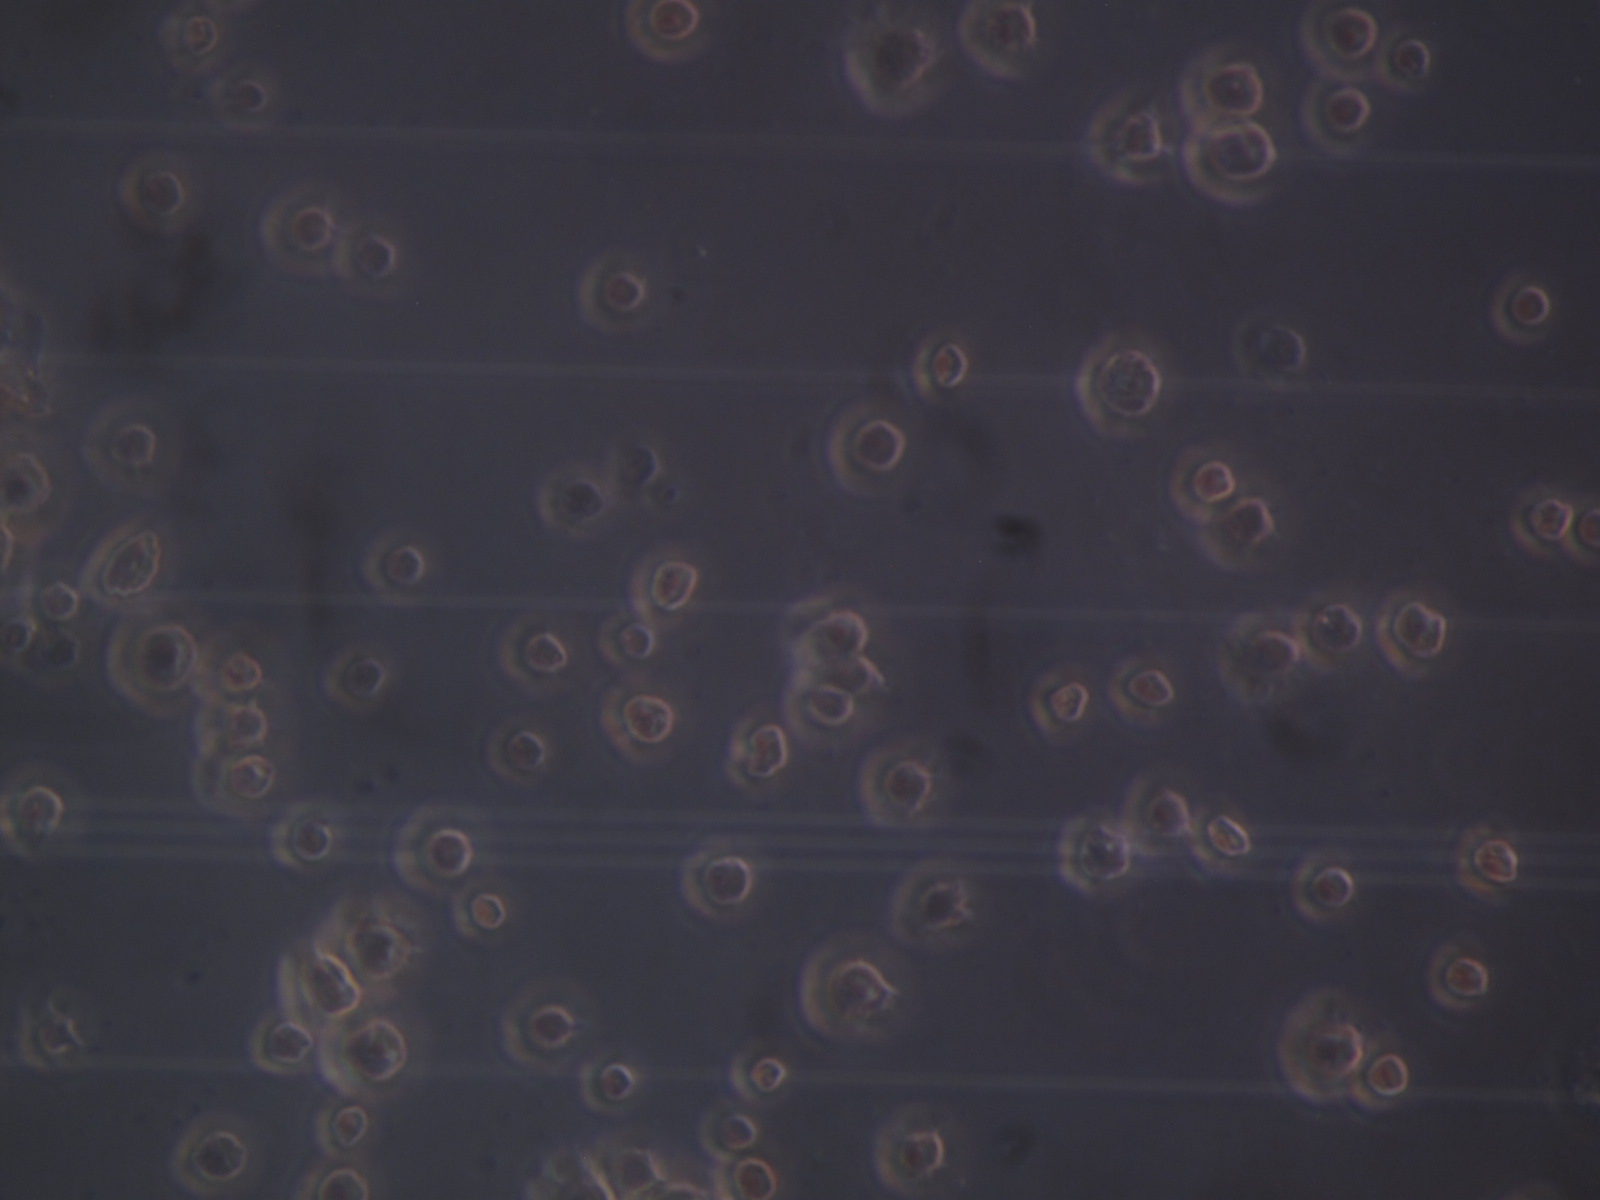hemo: (842, 9, 945, 117), (312, 894, 416, 984), (1075, 332, 1162, 439), (803, 942, 896, 1040), (1087, 77, 1172, 184), (1283, 991, 1363, 1100), (106, 618, 193, 718), (1186, 113, 1275, 208), (391, 800, 475, 899), (168, 1112, 262, 1192), (598, 671, 677, 766), (889, 862, 973, 950), (829, 400, 905, 495), (1180, 43, 1264, 130), (1220, 614, 1296, 707), (260, 182, 333, 276), (500, 983, 576, 1074), (1300, 1, 1383, 83), (84, 396, 156, 490), (276, 949, 364, 1026), (86, 521, 160, 610), (319, 1024, 404, 1100), (781, 666, 860, 747), (858, 744, 934, 829), (1289, 589, 1363, 676), (872, 1107, 944, 1196), (957, 1, 1037, 81), (1197, 497, 1275, 574), (1380, 592, 1448, 681), (581, 248, 648, 337), (1303, 74, 1372, 159), (1, 447, 66, 538), (682, 843, 753, 924), (1058, 816, 1130, 894), (123, 153, 191, 234), (535, 460, 606, 538), (1123, 774, 1189, 855), (627, 550, 698, 624), (501, 613, 572, 687), (625, 1, 708, 64), (1230, 313, 1306, 379), (197, 629, 261, 707), (197, 754, 277, 816), (335, 218, 398, 296), (479, 715, 547, 787), (1511, 483, 1575, 558), (728, 713, 787, 794), (1455, 822, 1518, 897), (1172, 447, 1233, 523), (1191, 800, 1250, 879), (207, 67, 273, 135), (1112, 655, 1174, 729), (358, 529, 426, 595), (324, 644, 387, 713), (605, 429, 660, 507), (1490, 272, 1550, 344), (1427, 944, 1489, 1012), (195, 698, 273, 751), (1291, 853, 1352, 921), (1351, 1040, 1409, 1111), (789, 613, 871, 662), (1031, 667, 1089, 735), (912, 332, 969, 401), (244, 1018, 314, 1071), (272, 807, 333, 867), (8, 784, 63, 848), (695, 1108, 758, 1163), (163, 14, 218, 76), (454, 884, 506, 945), (581, 1059, 637, 1116), (1382, 28, 1430, 95), (596, 615, 656, 667), (311, 1103, 368, 1157), (728, 1049, 787, 1100), (609, 1147, 664, 1200), (24, 577, 81, 628), (711, 1158, 777, 1200), (1565, 494, 1600, 570), (300, 1162, 370, 1200), (20, 1017, 74, 1066), (815, 655, 878, 697), (556, 1170, 619, 1200), (3, 610, 38, 662)
